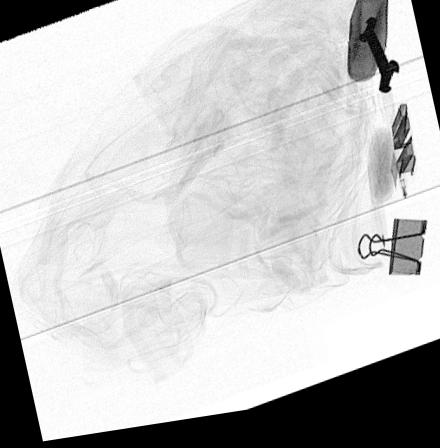Wrench: (358, 26, 399, 106)
